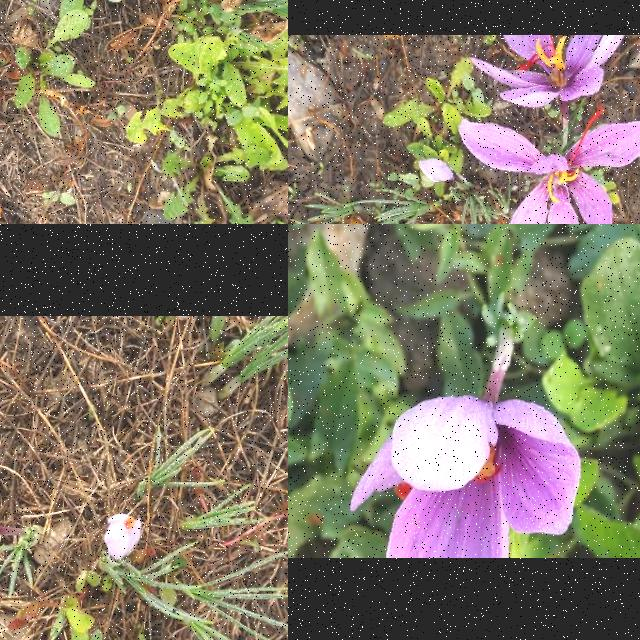flower: (350, 396, 582, 558), (458, 109, 640, 224), (470, 35, 624, 107), (105, 514, 142, 560)
